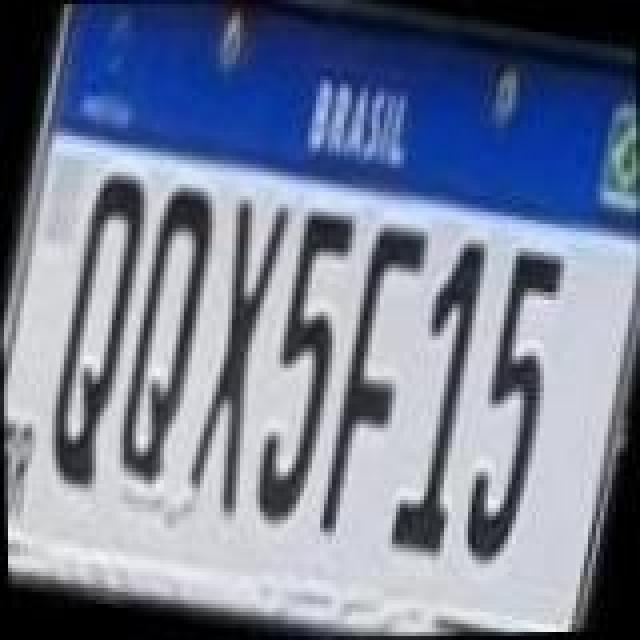1: (380, 228, 508, 564)
5: (238, 198, 366, 534), (448, 242, 576, 578)
F: (308, 216, 436, 548)
Q: (32, 160, 164, 496), (100, 178, 224, 498)
X: (170, 196, 298, 524)
